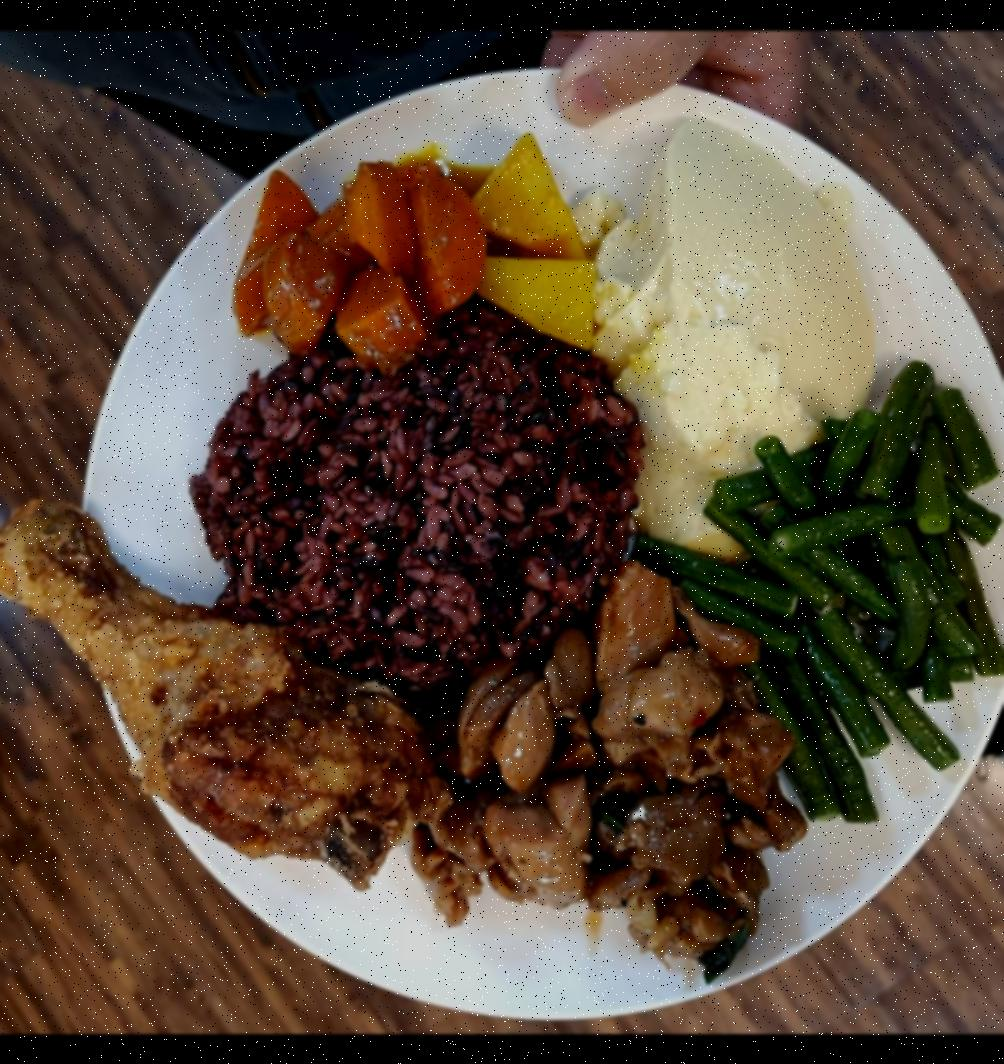plate: (73, 58, 1004, 1030)
purple rice: (186, 321, 650, 684)
side dish: (621, 364, 998, 816), (580, 116, 880, 560), (210, 134, 602, 356)
small fried chicken leg: (0, 486, 449, 894)
three cup chicken: (416, 566, 793, 973)
